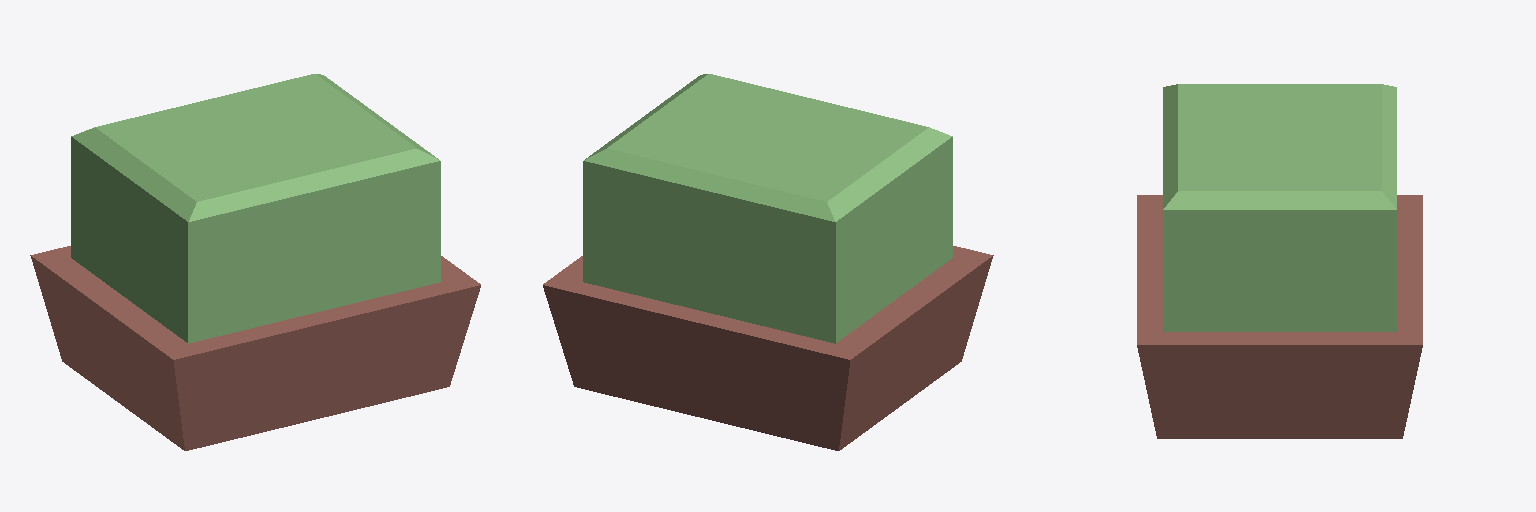
3 views of the same model, side by side, from view 1: azimuth 30°, elevation 25°; view 2: azimuth 150°, elevation 25°; view 3: azimuth 270°, elevation 25° (orthographic).
Visible parts, largest first — view 1: Cube.002; view 2: Cube.002; view 3: Cube.002.
Boxes of the visible parts, <box> form: Cube.002: <box>30,74,480,450</box>; Cube.002: <box>543,74,993,450</box>; Cube.002: <box>1137,84,1422,438</box>.
Bounding box in the file's own units: 0.9736 × 0.7141 × 0.7832.
Materials: 1 (1 with a texture image).